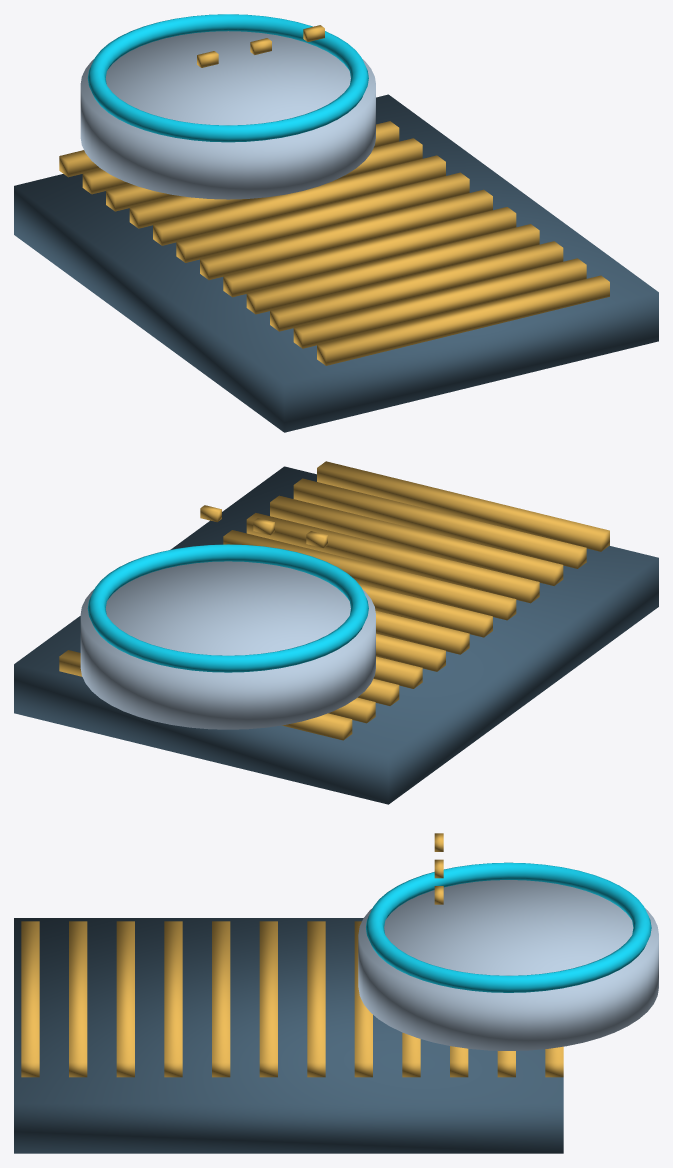
The model's file is 23_L93_CTPrecisionRotationStage.fbx.
3 views of the same model, one above another, from view 1: azimuth 30°, elevation 25°; view 2: azimuth 150°, elevation 25°; view 3: azimuth 270°, elevation 25° (orthographic).
Parts seen in each view (by area): view 1: L92_CTPrecisionRotationStage_Part_0001, L92_CTPrecisionRotationStage_Part_0000, L92_CTPrecisionRotationStage_Part_0002, L92_CTPrecisionRotationStage_Part_0003, L92_CTPrecisionRotationStage_Part_0006; view 2: L92_CTPrecisionRotationStage_Part_0000, L92_CTPrecisionRotationStage_Part_0001, L92_CTPrecisionRotationStage_Part_0002, L92_CTPrecisionRotationStage_Part_0003, L92_CTPrecisionRotationStage_Part_0006; view 3: L92_CTPrecisionRotationStage_Part_0000, L92_CTPrecisionRotationStage_Part_0002, L92_CTPrecisionRotationStage_Part_0001, L92_CTPrecisionRotationStage_Part_0003, L92_CTPrecisionRotationStage_Part_0006.
Part boxes in pixels (left/top/right/bottom): L92_CTPrecisionRotationStage_Part_0001: left=59, top=121, right=609, bottom=365; L92_CTPrecisionRotationStage_Part_0000: left=14, top=94, right=658, bottom=432; L92_CTPrecisionRotationStage_Part_0002: left=80, top=31, right=375, bottom=199; L92_CTPrecisionRotationStage_Part_0003: left=87, top=14, right=368, bottom=142; L92_CTPrecisionRotationStage_Part_0006: left=197, top=25, right=324, bottom=67; L92_CTPrecisionRotationStage_Part_0000: left=14, top=466, right=658, bottom=804; L92_CTPrecisionRotationStage_Part_0001: left=59, top=461, right=609, bottom=740; L92_CTPrecisionRotationStage_Part_0002: left=80, top=561, right=375, bottom=729; L92_CTPrecisionRotationStage_Part_0003: left=87, top=544, right=368, bottom=672; L92_CTPrecisionRotationStage_Part_0006: left=200, top=505, right=327, bottom=547; L92_CTPrecisionRotationStage_Part_0000: left=14, top=918, right=563, bottom=1153; L92_CTPrecisionRotationStage_Part_0002: left=358, top=880, right=658, bottom=1050; L92_CTPrecisionRotationStage_Part_0001: left=21, top=921, right=563, bottom=1077; L92_CTPrecisionRotationStage_Part_0003: left=366, top=862, right=651, bottom=992; L92_CTPrecisionRotationStage_Part_0006: left=434, top=833, right=443, bottom=904.
Size of the model in its own units: 240 by 118 by 352.
